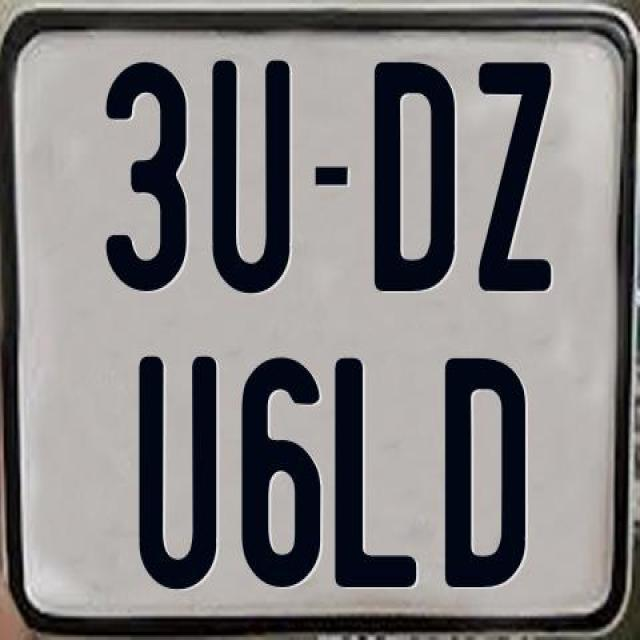3: (104, 59, 185, 294)
6: (240, 356, 324, 594)
D: (373, 63, 458, 294), (442, 355, 522, 586)
L: (334, 357, 424, 586)
U: (210, 61, 294, 300), (136, 352, 219, 590)
Z: (474, 61, 548, 292)
